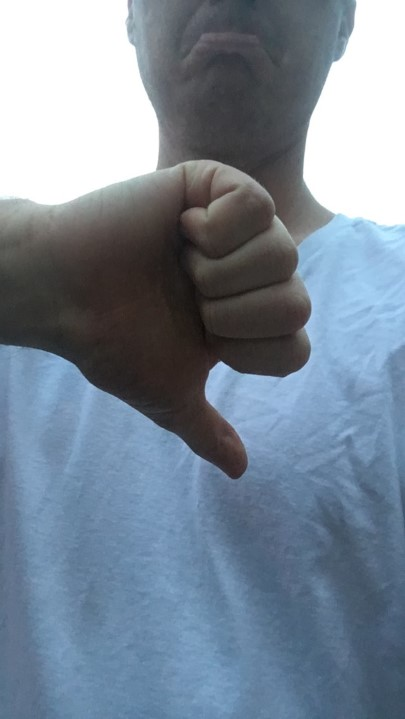hand: (41, 159, 314, 480)
